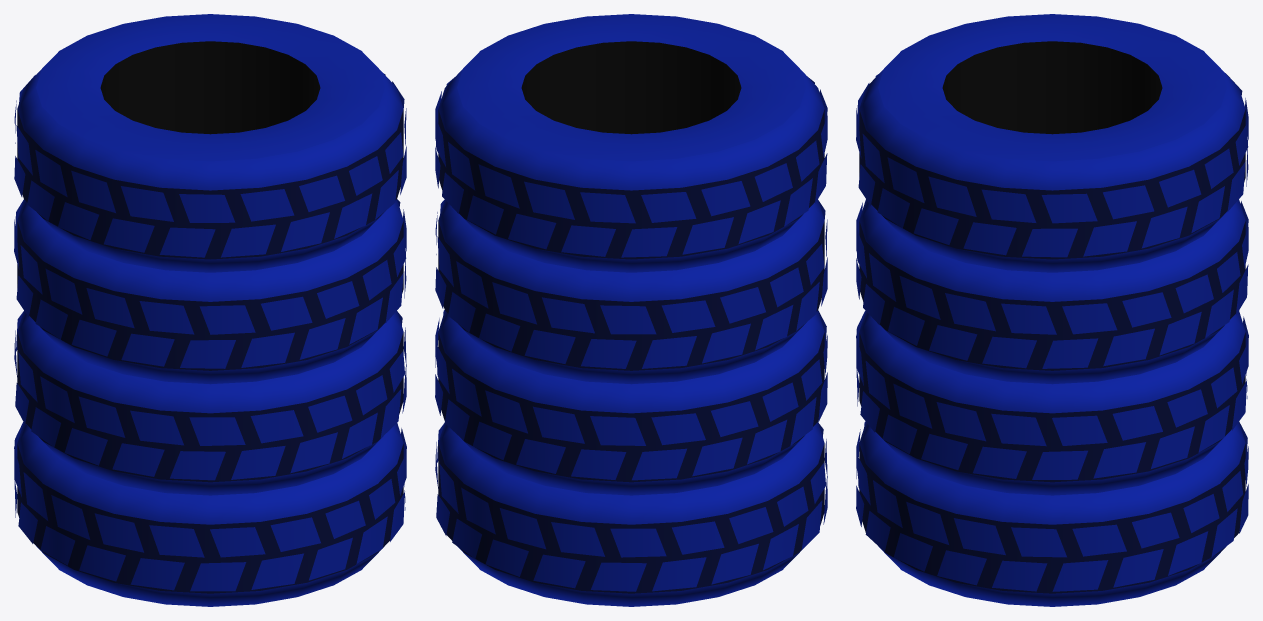
The model's file is tire_stack_blue.dae.
3 renders of one model, left to right at view 1: azimuth 30°, elevation 25°; view 2: azimuth 150°, elevation 25°; view 3: azimuth 270°, elevation 25°, orthographic.
Visible parts, largest first — view 1: tire_stack_blue; view 2: tire_stack_blue; view 3: tire_stack_blue.
Boxes of the visible parts, x1,y1,x2,y2 form: tire_stack_blue: (14,14,406,606); tire_stack_blue: (435,14,827,606); tire_stack_blue: (856,14,1248,606).
Bounding box in the file's own units: 0.671 × 0.671 × 0.846.
